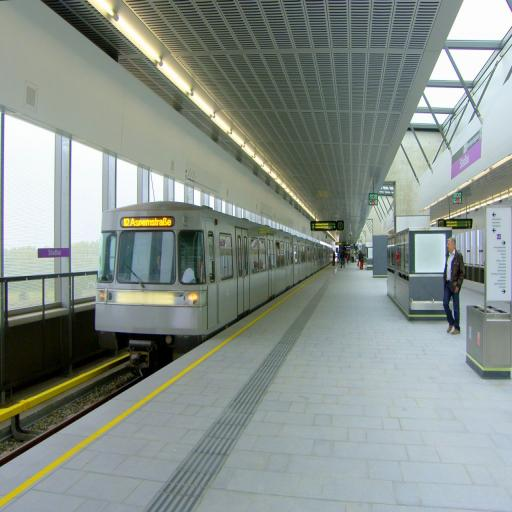Silberpfeil: (93, 200, 334, 350)
